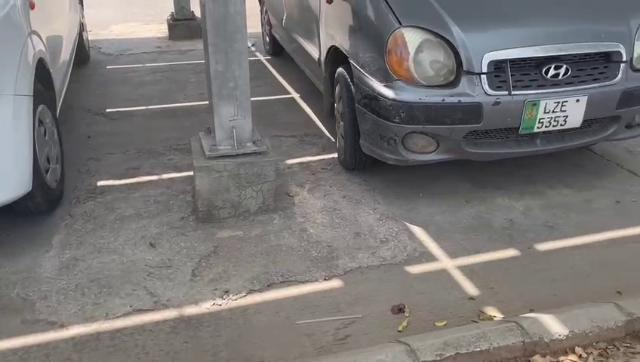plate: (516, 94, 600, 136)
